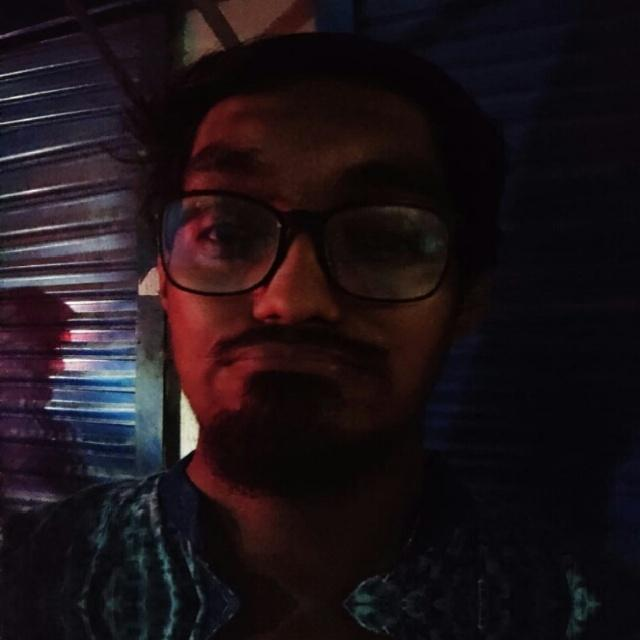Sad: (117, 62, 504, 531)
